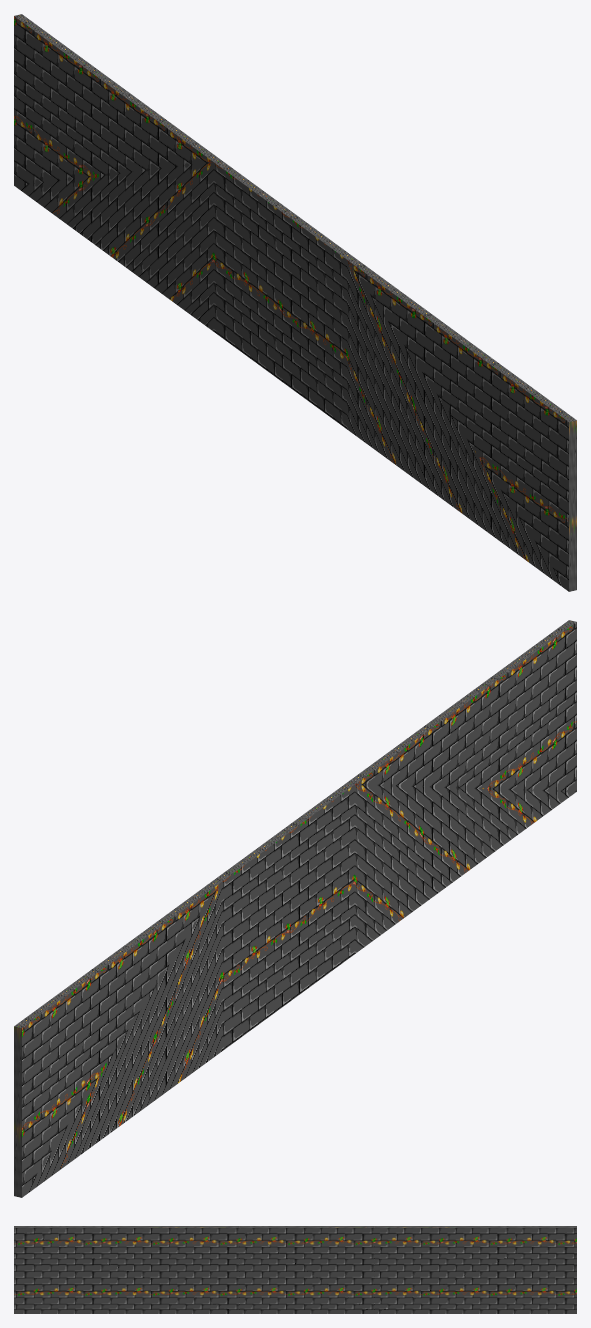
File: openwall.fbx
3 views of the same model, one above another, from view 1: azimuth 30°, elevation 25°; view 2: azimuth 150°, elevation 25°; view 3: azimuth 270°, elevation 25° (orthographic). The views are drawn at different scales.
Parts seen in each view (by area): view 1: pCube23, pCube70; view 2: pCube23, pCube70; view 3: pCube23, pCube70.
Boxes of the visible parts, x1,y1,x2,y2 form: pCube23: [14, 14, 576, 591]; pCube70: [214, 160, 354, 428]; pCube23: [14, 620, 576, 1197]; pCube70: [214, 782, 354, 1051]; pCube23: [14, 1226, 576, 1313]; pCube70: [239, 1226, 374, 1313].
Size of the model in its own units: 1.44 by 29.62 by 176.
